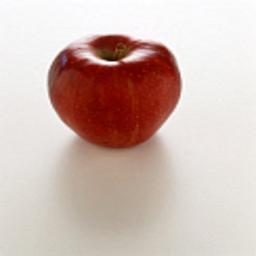apple: (45, 34, 183, 153)
